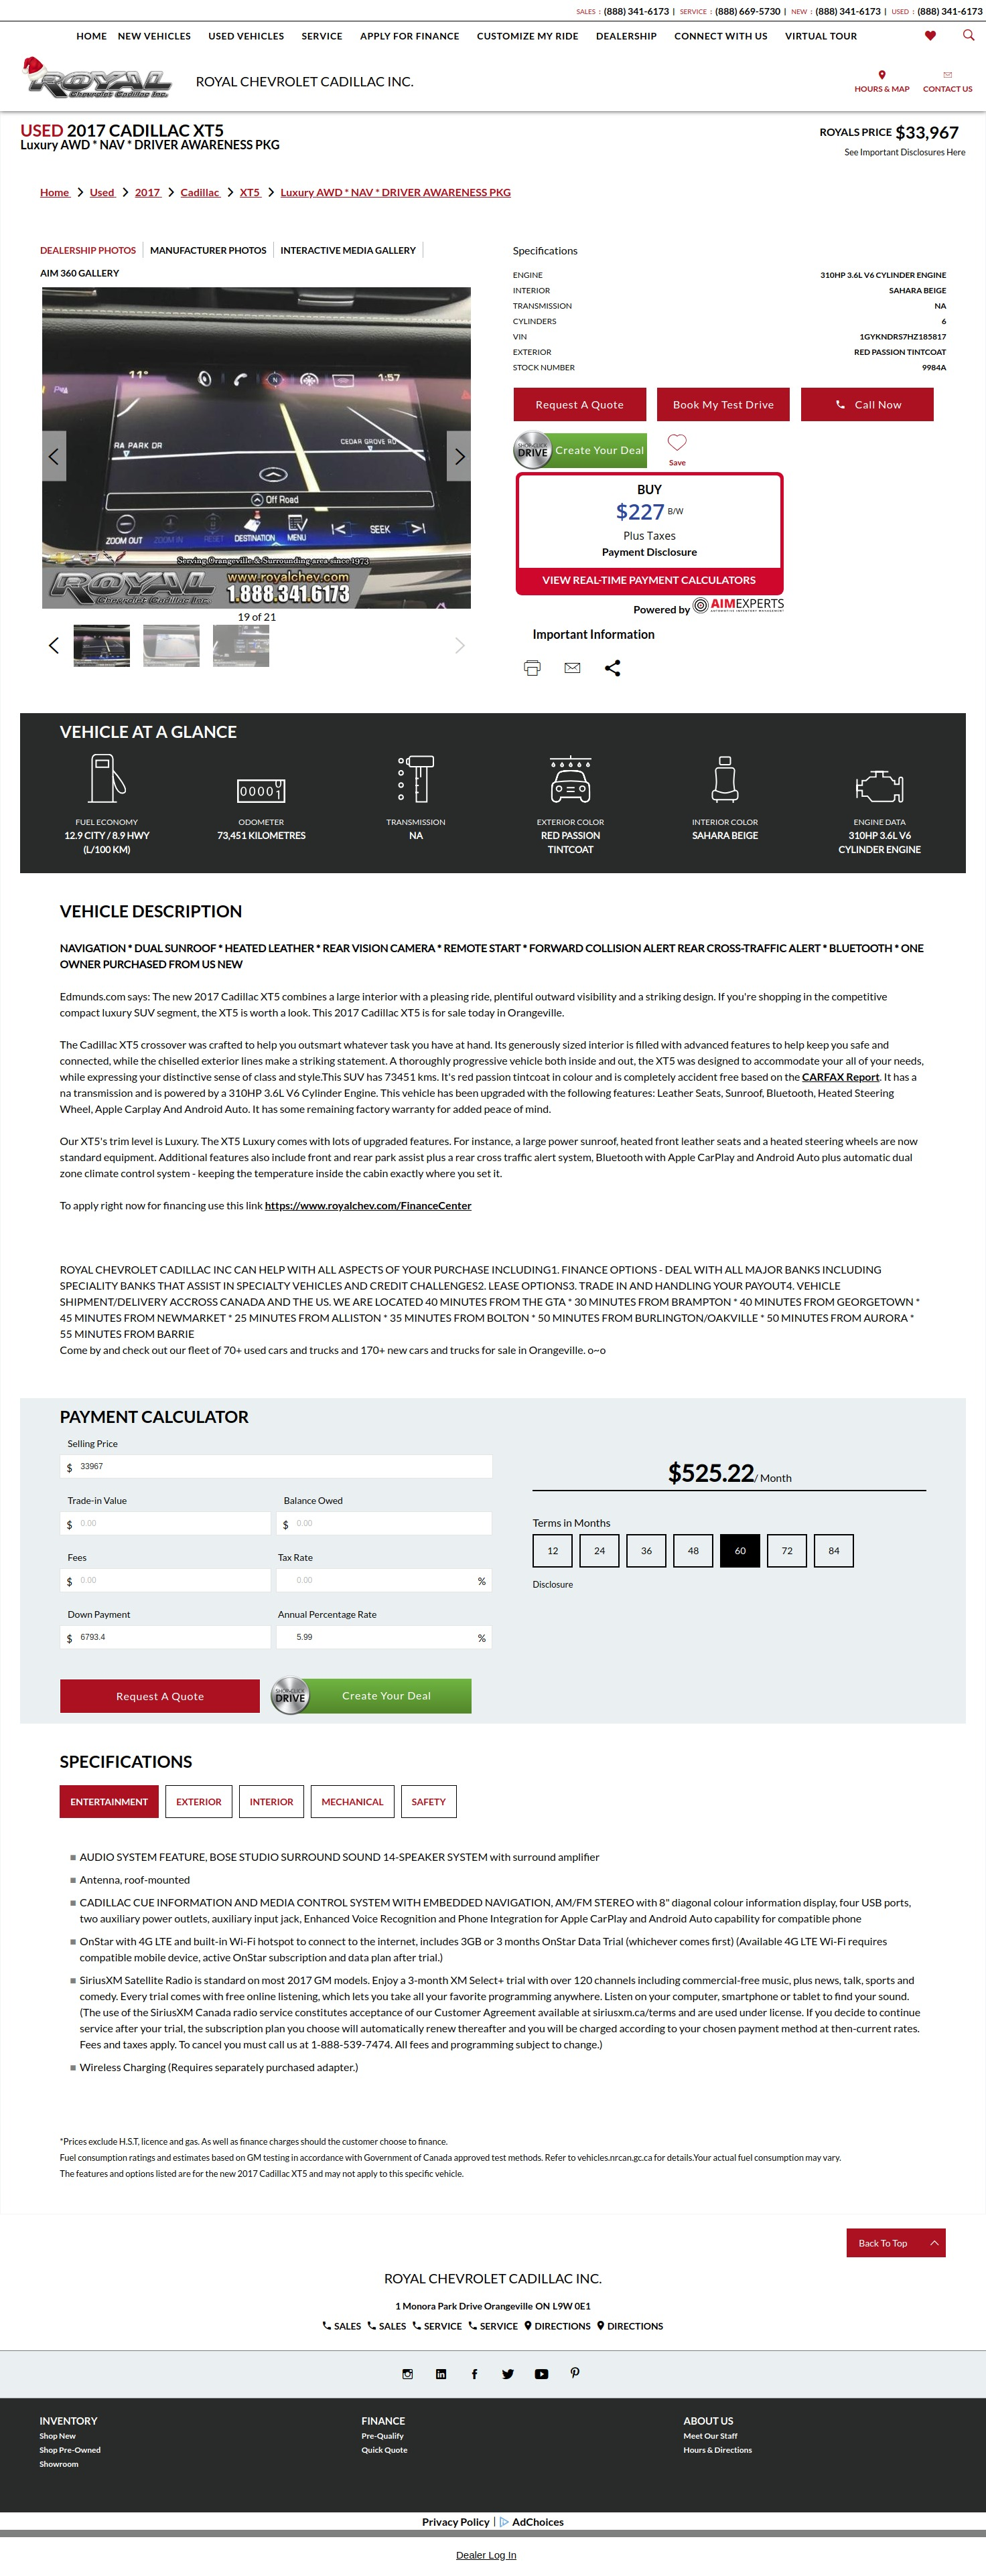car: (455, 637, 465, 655)
